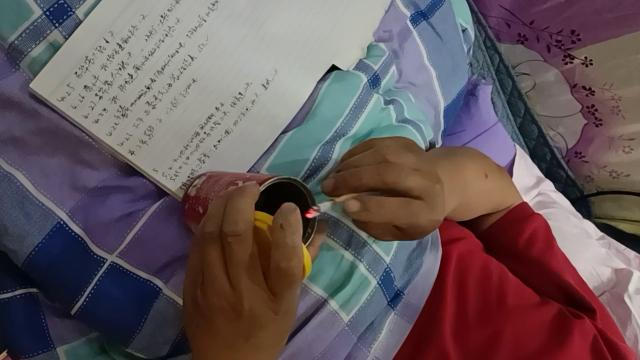Cigarette: (304, 193, 364, 219)
